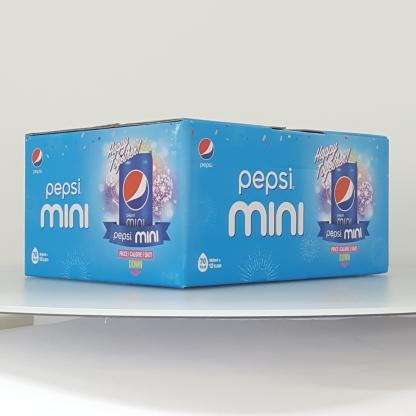-----160ML: (25, 118, 389, 289)
